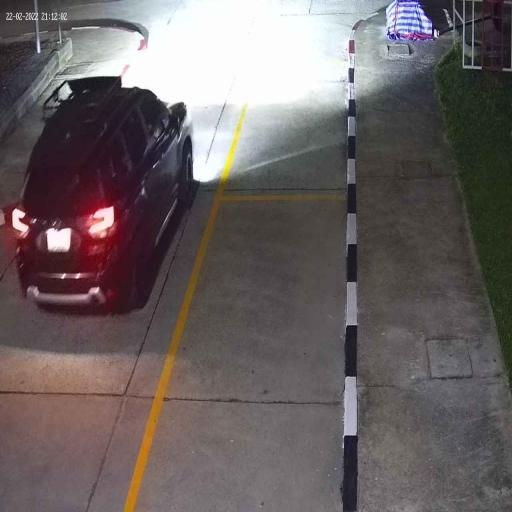car: (10, 78, 196, 318)
